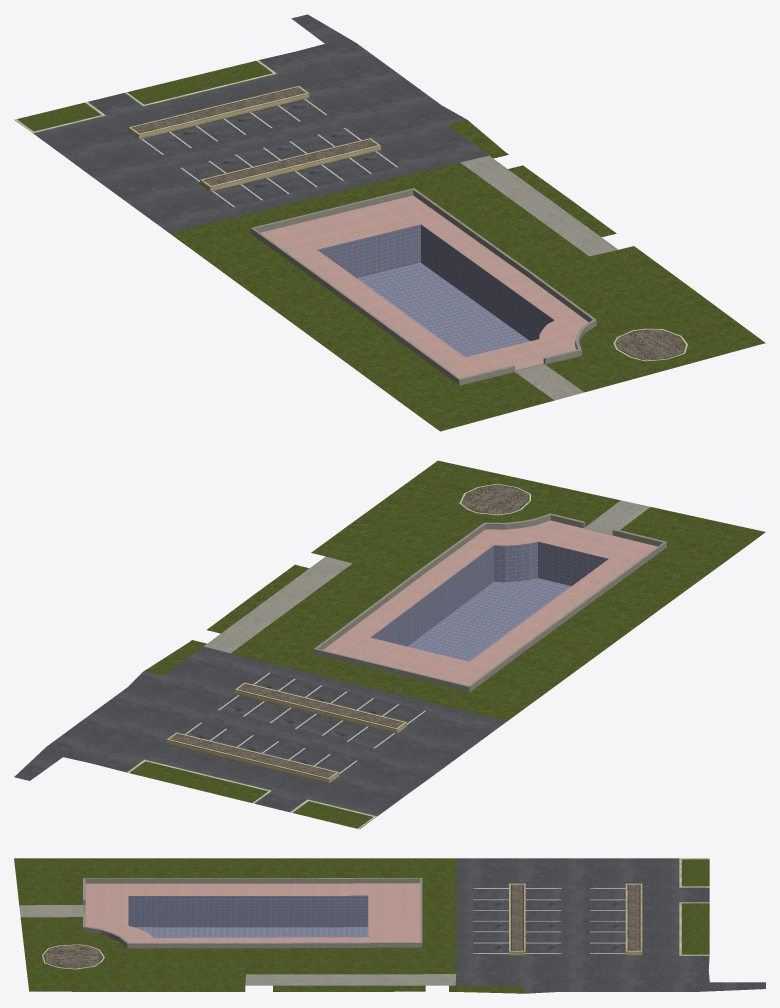
Rendered from venlaw_grnd.obj.
3 renders of one model, top to bottom at view 1: azimuth 30°, elevation 25°; view 2: azimuth 150°, elevation 25°; view 3: azimuth 270°, elevation 25°, orthographic. The views are drawn at different scales.
Parts seen in each view (by area): view 1: venlaw_grnd; view 2: venlaw_grnd; view 3: venlaw_grnd.
Part boxes in pixels (x1,y1,x2,y2): venlaw_grnd: [14, 14, 765, 431]; venlaw_grnd: [14, 460, 765, 829]; venlaw_grnd: [14, 858, 765, 993].
Bounding box in the file's own units: 56.28 × 6.97 × 132.
